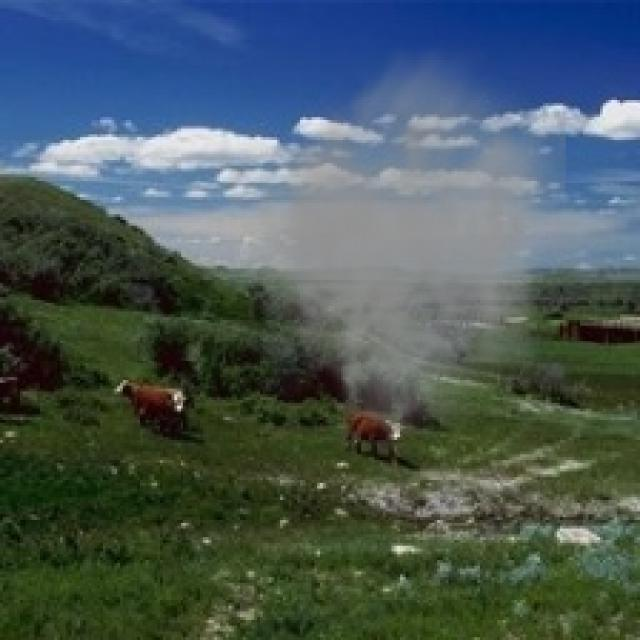smoke: (211, 32, 566, 454)
